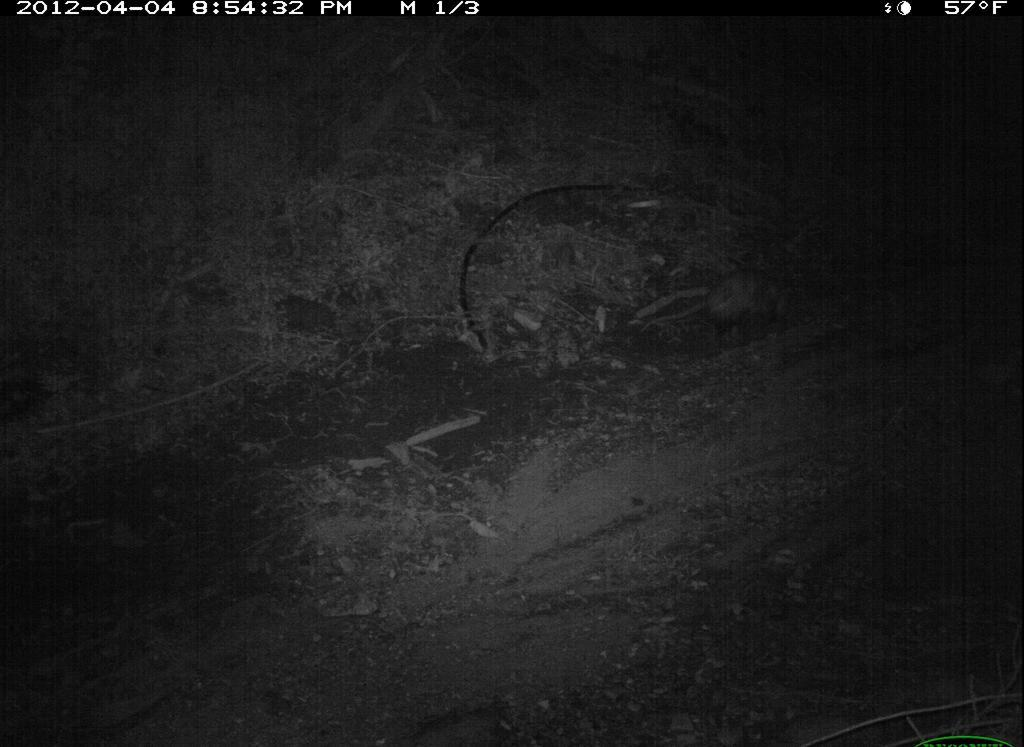opossum: (642, 262, 803, 346)
